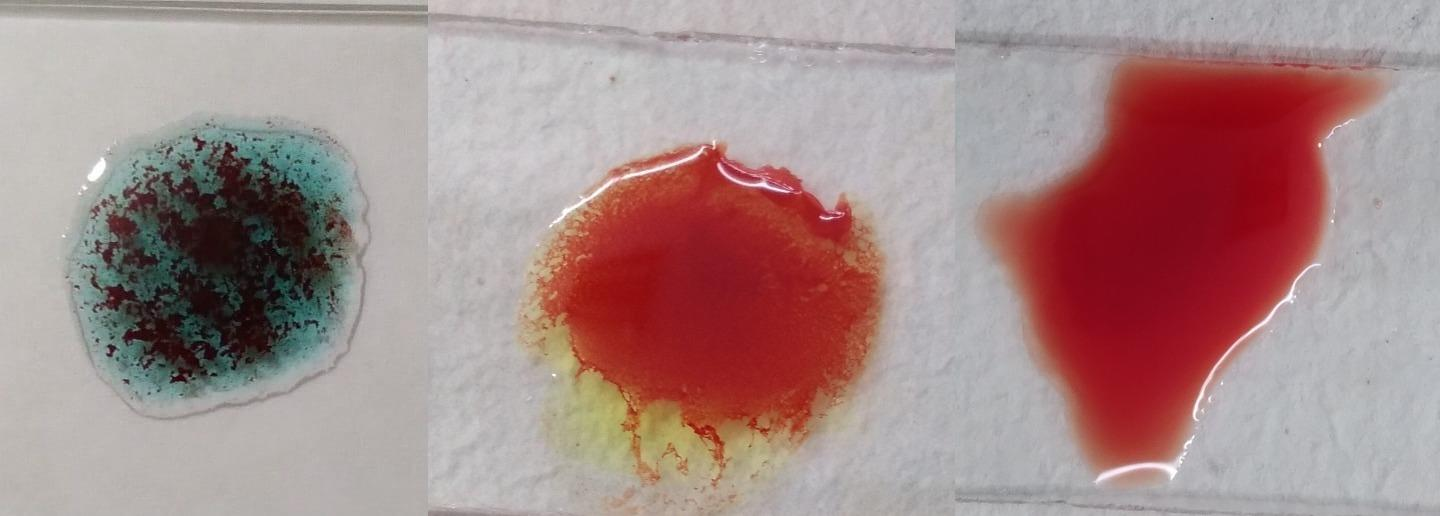A: (59, 114, 371, 420)
B: (521, 143, 881, 494)
